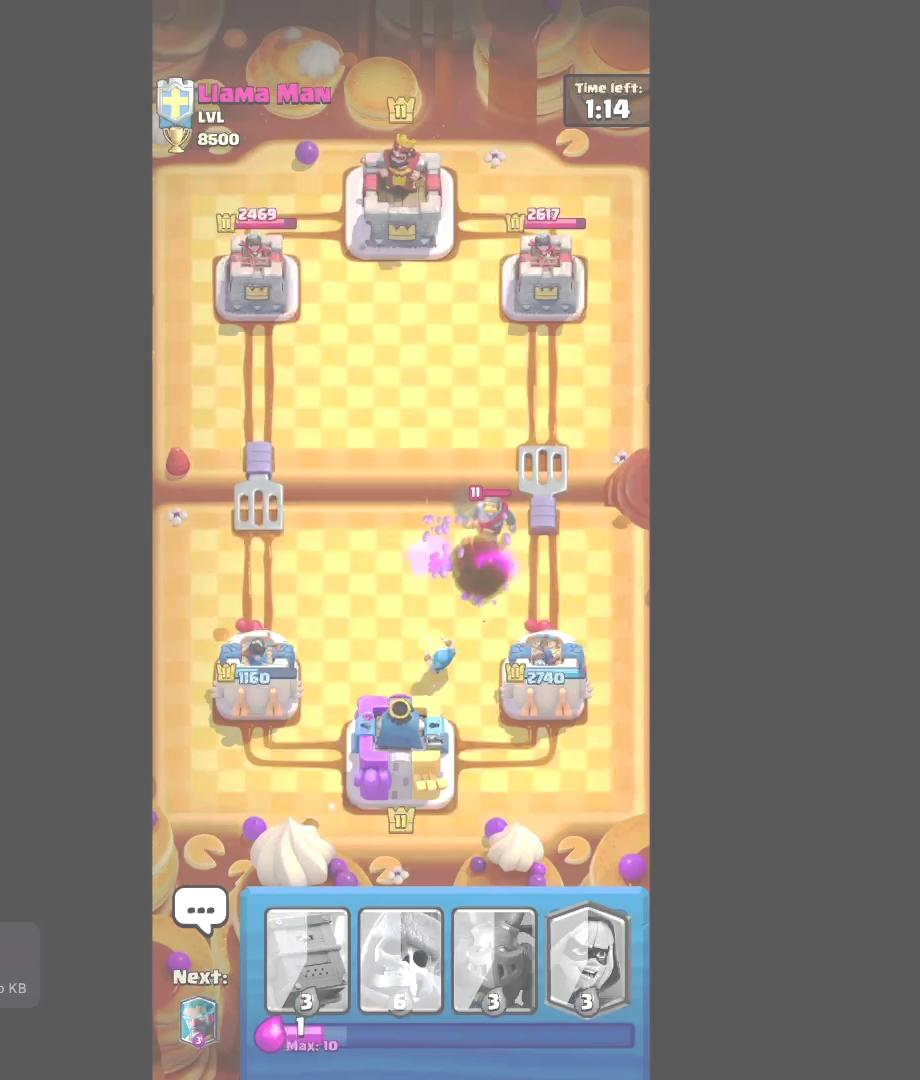Knight: (467, 475, 528, 547)
